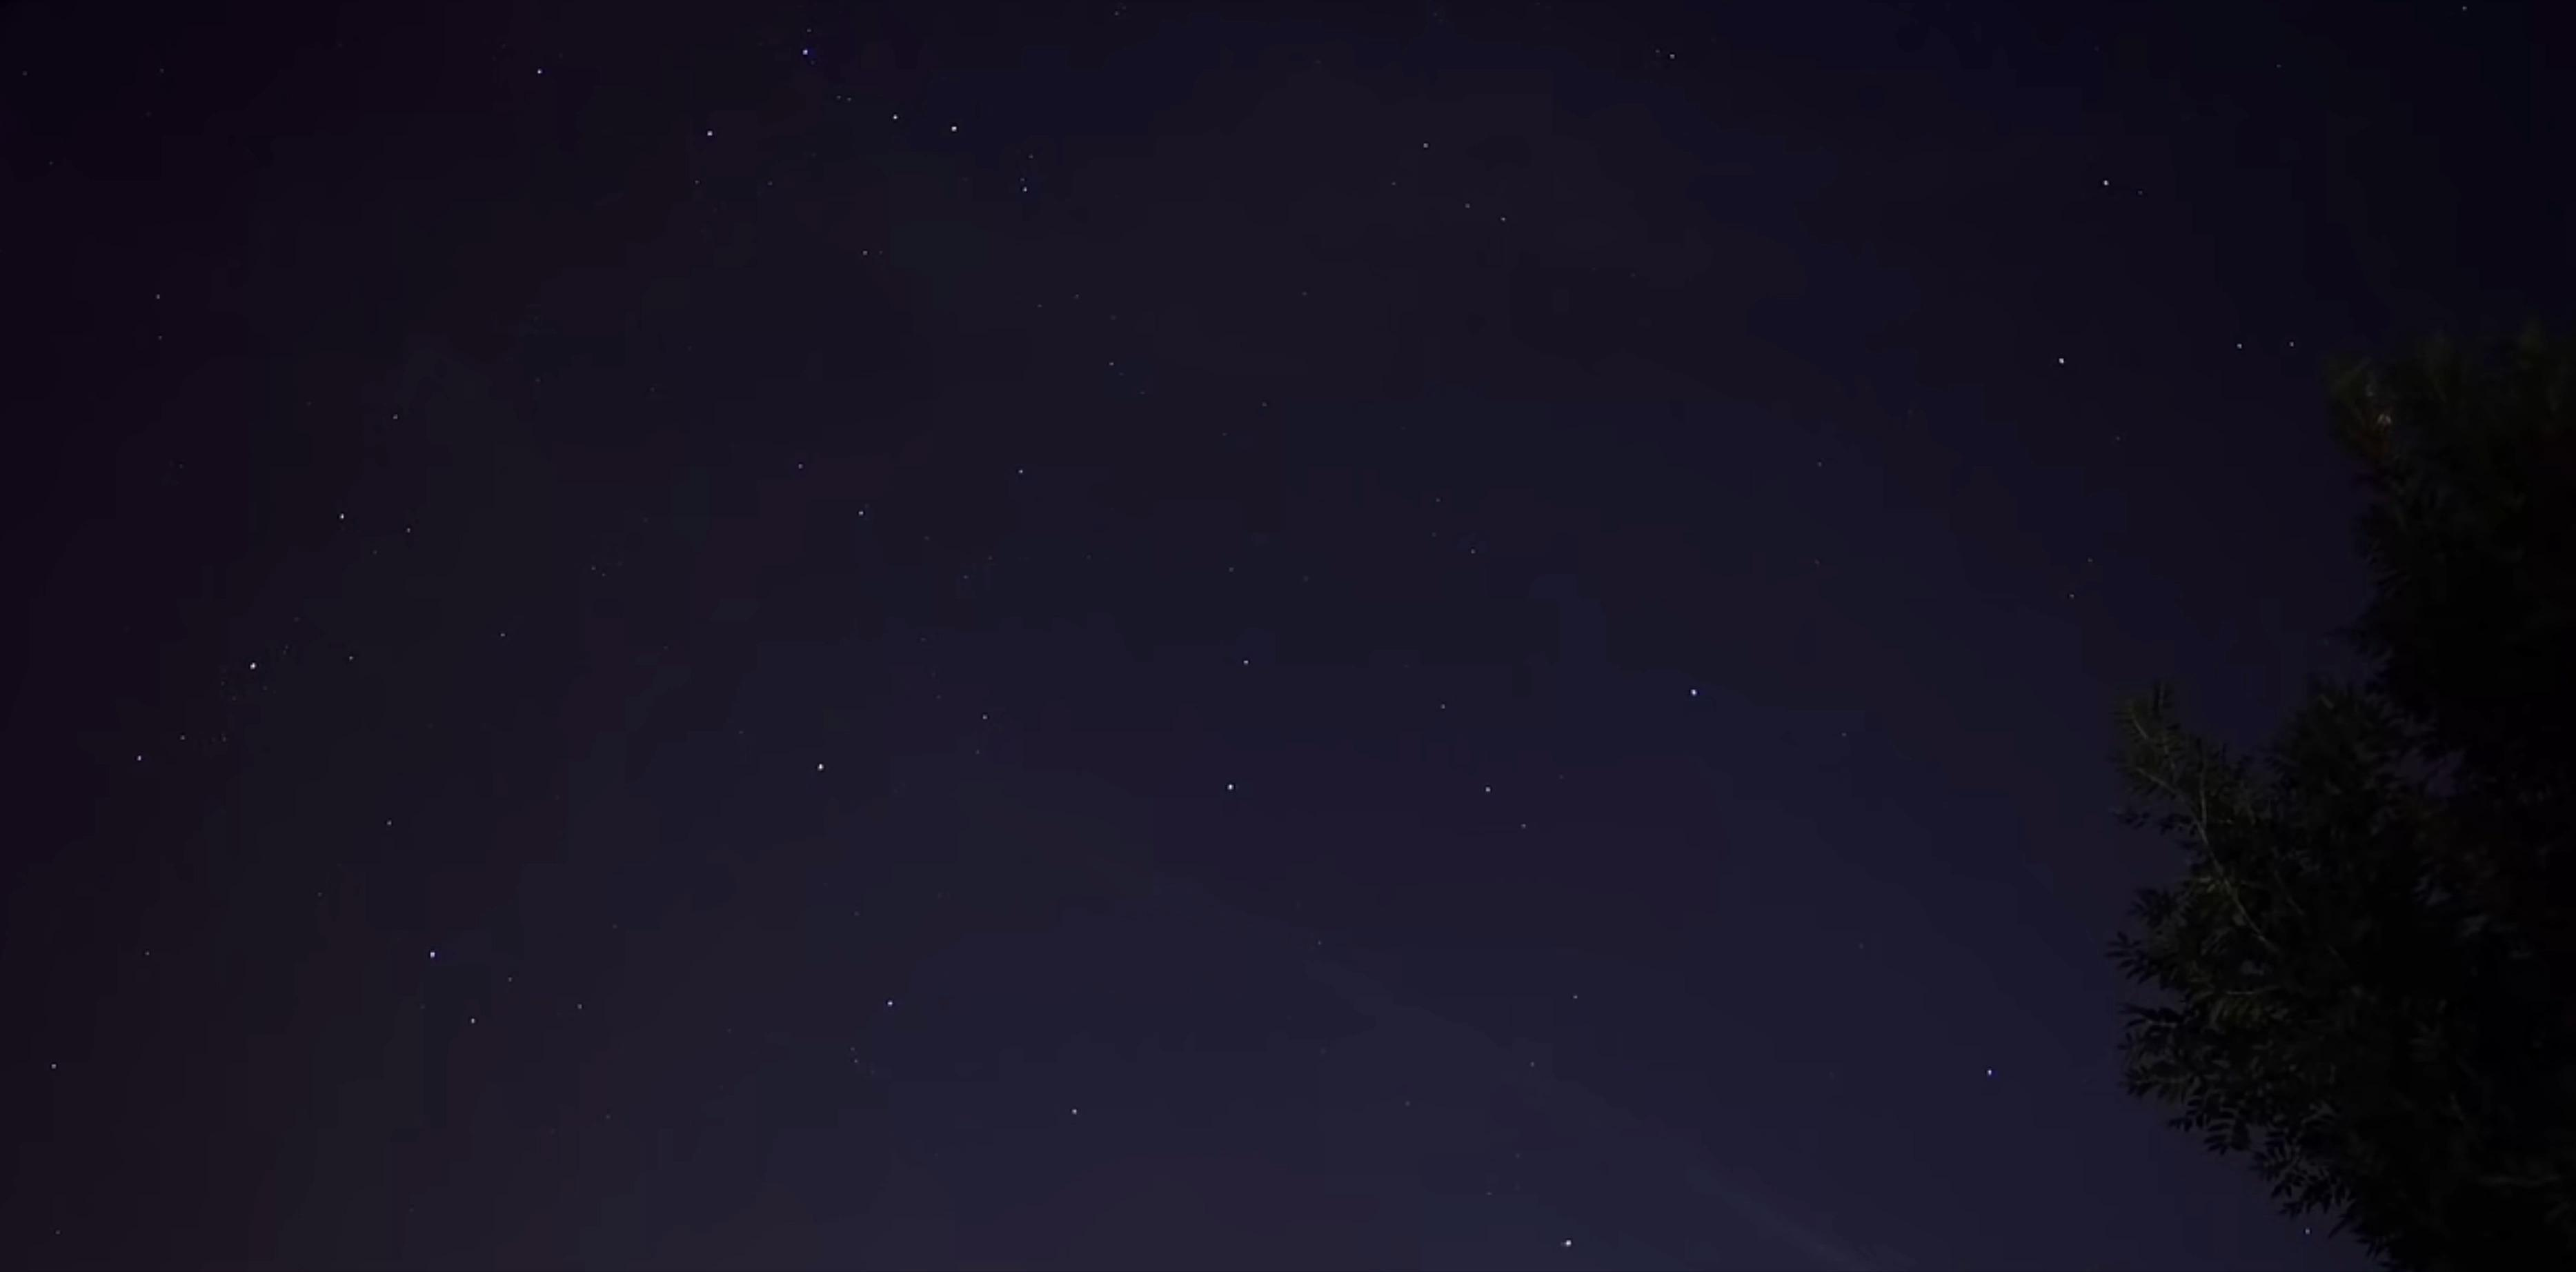Plane: (1551, 1226, 1584, 1256)
